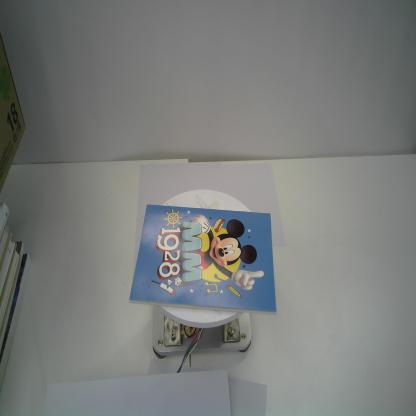Stationery: (127, 202, 278, 318)
